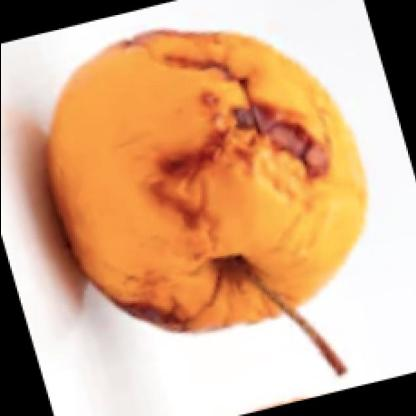defect: (124, 35, 366, 236), (95, 283, 209, 339)
